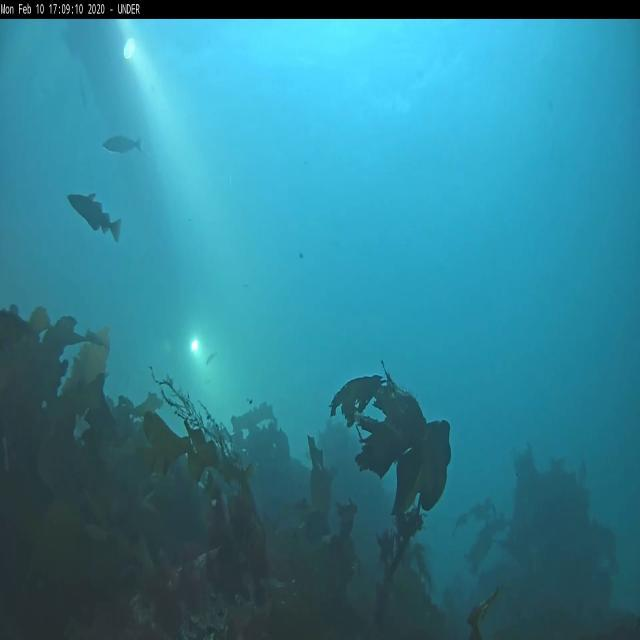fish: (68, 190, 121, 242), (102, 134, 144, 156)
